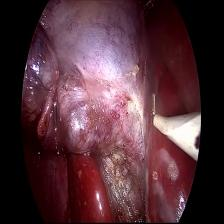Hook: (149, 91, 202, 168)
